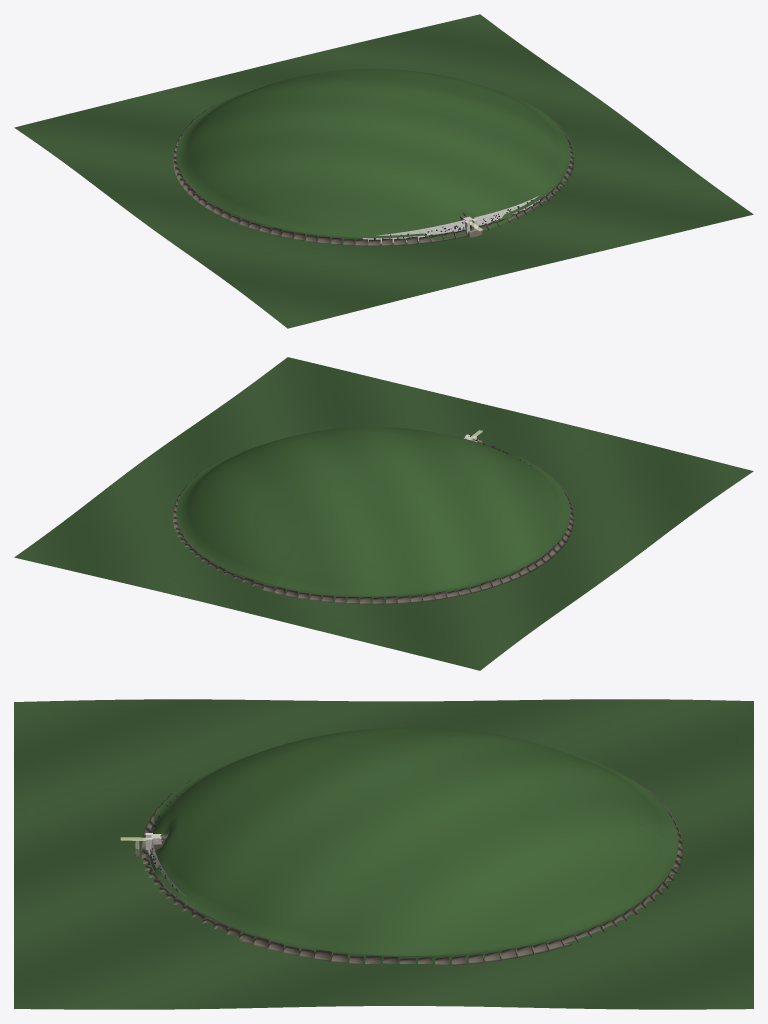
The model's file is newgrange_monument.glb.
3 renders of one model, top to bottom at view 1: azimuth 30°, elevation 25°; view 2: azimuth 150°, elevation 25°; view 3: azimuth 270°, elevation 25°, orthographic. The views are drawn at different scales.
Visible parts, largest first — view 1: boyne_terrain, mound_west_half, mound_east_half, kerbstones, quartz_facade; view 2: boyne_terrain, mound_west_half, mound_east_half, kerbstones; view 3: boyne_terrain, mound_east_half, mound_west_half, kerbstones.
Boxes of the visible parts, bbox=[...] form: boyne_terrain: bbox=[14, 14, 753, 328]; mound_west_half: bbox=[176, 77, 466, 240]; mound_east_half: bbox=[292, 69, 570, 230]; kerbstones: bbox=[173, 105, 573, 246]; quartz_facade: bbox=[362, 195, 545, 243]; boyne_terrain: bbox=[14, 357, 753, 670]; mound_west_half: bbox=[275, 436, 570, 596]; mound_east_half: bbox=[176, 427, 453, 586]; kerbstones: bbox=[173, 439, 573, 604]; boyne_terrain: bbox=[14, 699, 753, 1009]; mound_east_half: bbox=[146, 781, 678, 955]; mound_west_half: bbox=[151, 727, 678, 849]; kerbstones: bbox=[135, 758, 682, 965].
Bounding box in the file's own units: 116 × 13.12 × 118.
